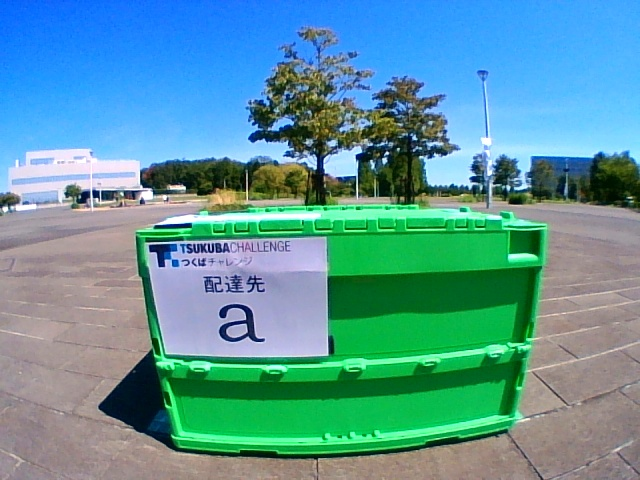green_box: (136, 205, 548, 455)
tag_a: (167, 247, 326, 355)
